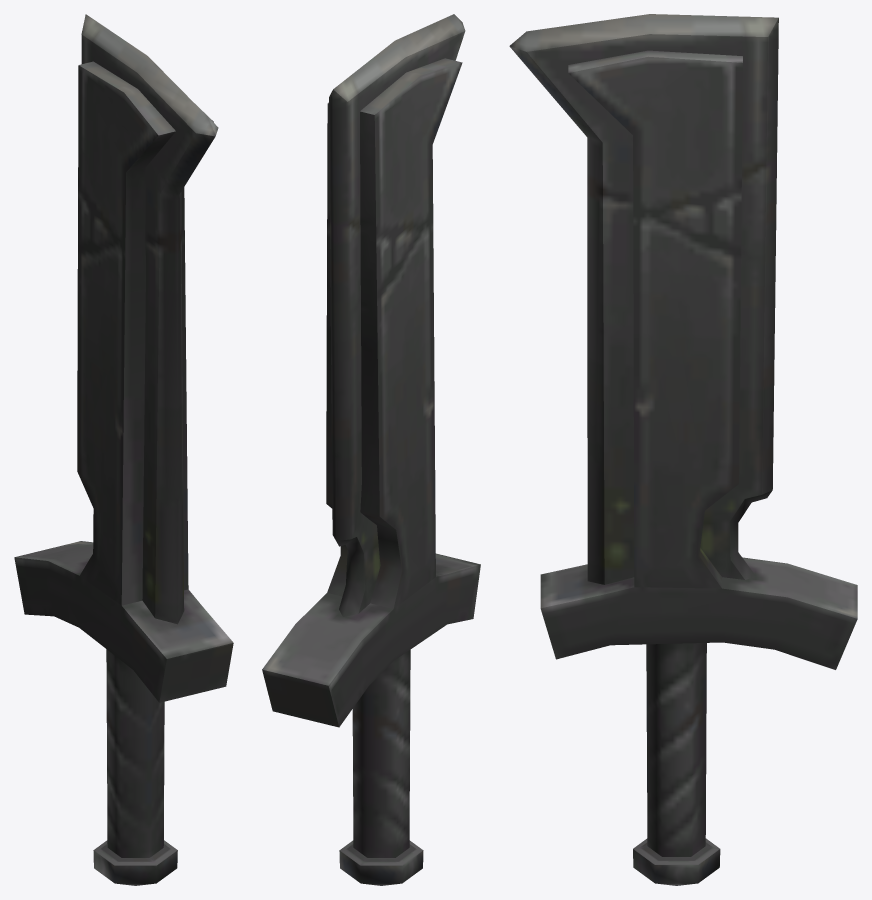
File: sword_gargoyle01_ae14cc25.glb
3 views of the same model, side by side, from view 1: azimuth 30°, elevation 25°; view 2: azimuth 150°, elevation 25°; view 3: azimuth 270°, elevation 25° (orthographic). The views are drawn at different scales.
Bounding box in the file's own units: 0.1303 × 1.55 × 0.5634.
Materials: 1 (1 with a texture image).
